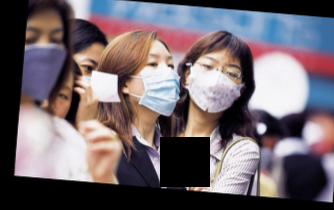with_mask: (23, 24, 66, 103), (188, 55, 242, 115), (128, 52, 180, 113)
